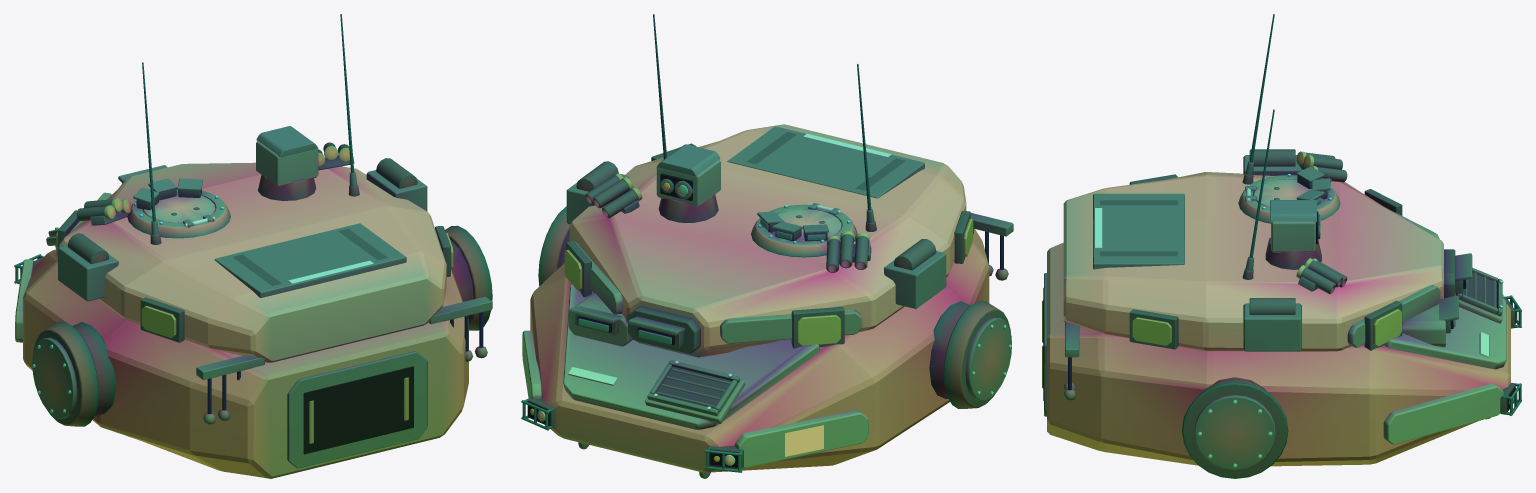
File: core_merkava_mk4m.glb
3 renders of one model, left to right at view 1: azimuth 30°, elevation 25°; view 2: azimuth 150°, elevation 25°; view 3: azimuth 270°, elevation 25°, orthographic. The views are drawn at different scales.
Parts seen in each view (by area): view 1: Body__armor, Body__armor_sub, Body__gunmetal, Body__dark, Body__bore, Body__accent, Body__brass; view 2: Body__armor, Body__armor_sub, Body__dark, Body__gunmetal, Body__accent, Body__decal, Body__bore, Body__hazard, Body__glass; view 3: Body__armor, Body__armor_sub, Body__gunmetal, Body__dark, Body__accent, Body__hazard.
Part boxes in pixels (x1,y1,x2,y2): Body__armor: (15, 162, 446, 362); Body__armor_sub: (23, 141, 468, 478); Body__gunmetal: (14, 126, 492, 468); Body__dark: (20, 14, 492, 426); Body__bore: (303, 366, 413, 454); Body__accent: (56, 217, 453, 337); Body__brass: (104, 146, 350, 219); Body__armor: (522, 124, 966, 467); Body__armor_sub: (530, 159, 989, 472); Body__dark: (527, 14, 1010, 469); Body__gunmetal: (521, 126, 1013, 478); Body__accent: (564, 218, 973, 345); Body__decal: (785, 425, 823, 456); Body__bore: (528, 173, 737, 467); Body__hazard: (568, 133, 891, 385); Body__glass: (578, 219, 825, 344); Body__armor: (1063, 172, 1506, 444); Body__armor_sub: (1047, 175, 1510, 466); Body__gunmetal: (1044, 155, 1521, 469); Body__dark: (1068, 14, 1515, 478); Body__accent: (1132, 309, 1401, 346); Body__hazard: (1094, 208, 1489, 357).
Size of the model in its own units: 2.29 by 1.91 by 2.3.
